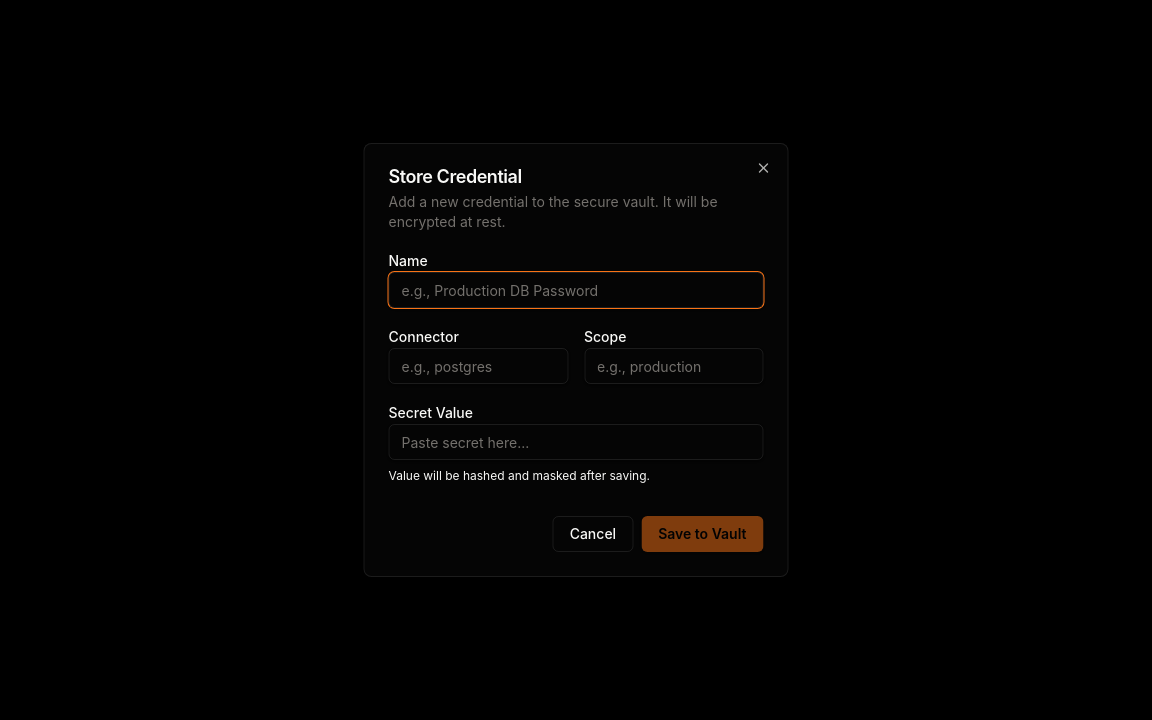
Test: CredentialDialog › keeps the dialog open and shows an error when the API save fails
Type "Production DB" into the field with placeholder "e.g., Production DB Password". click: (576, 290)
box: [388,272,764,308]
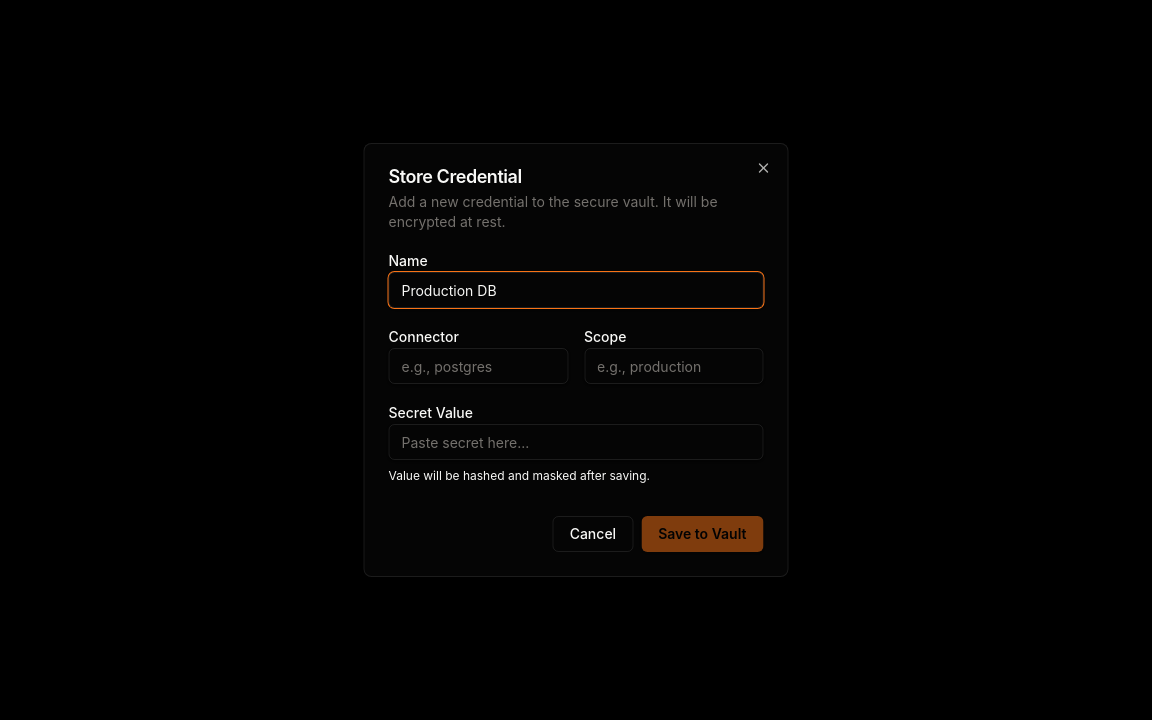
Type "postgres" into the field with placeholder "e.g., postgres". click: (478, 366)
box: [388,348,568,384]
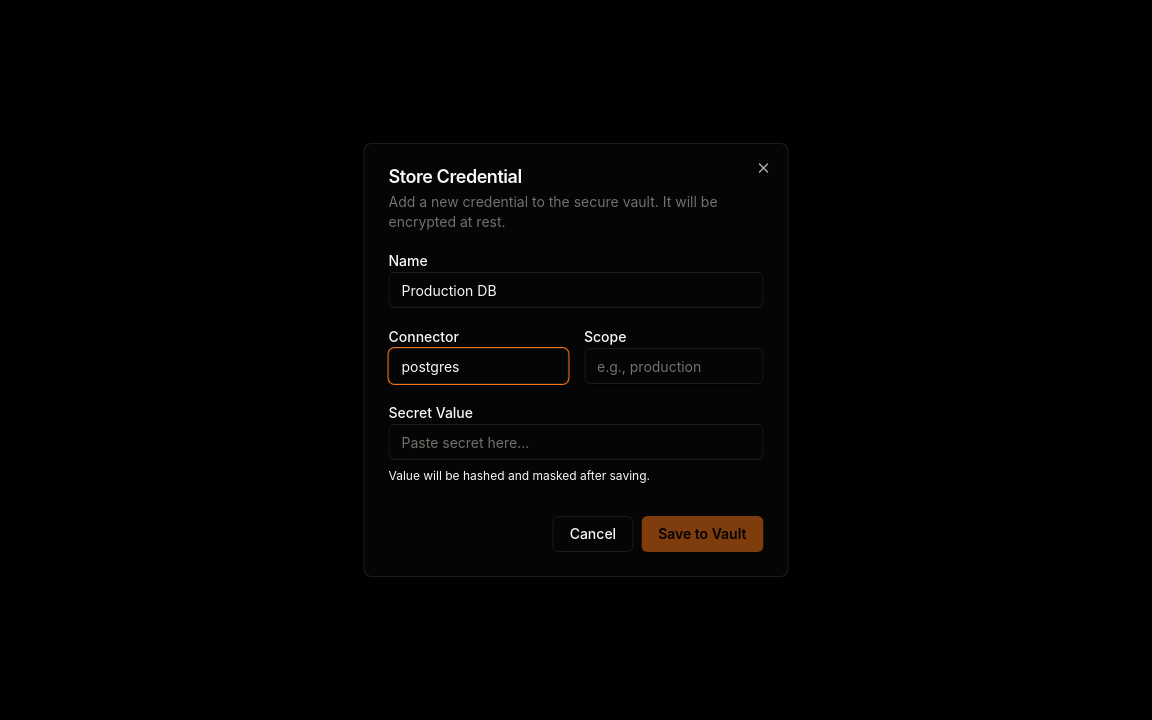
Type "production" into the field with placeholder "e.g., production". click: (674, 366)
box: [584,348,764,384]
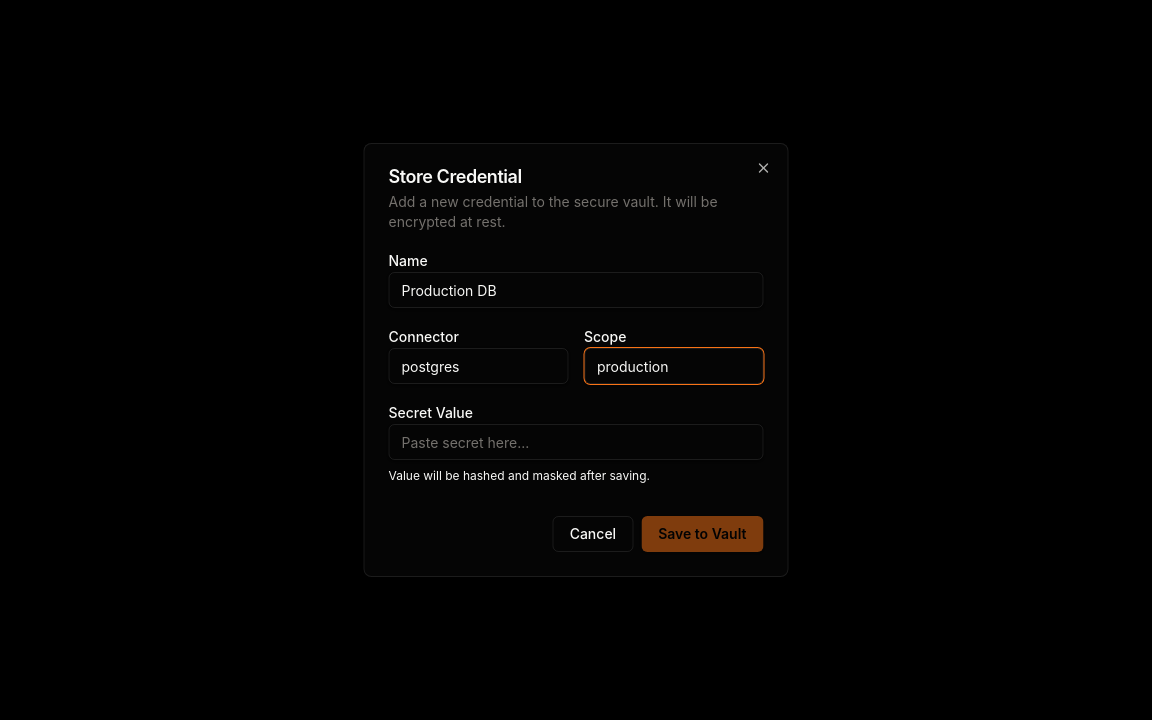
Type "super-secret" into the password field with placeholder "Paste secret here...". click: (576, 442)
box: [388,424,764,460]
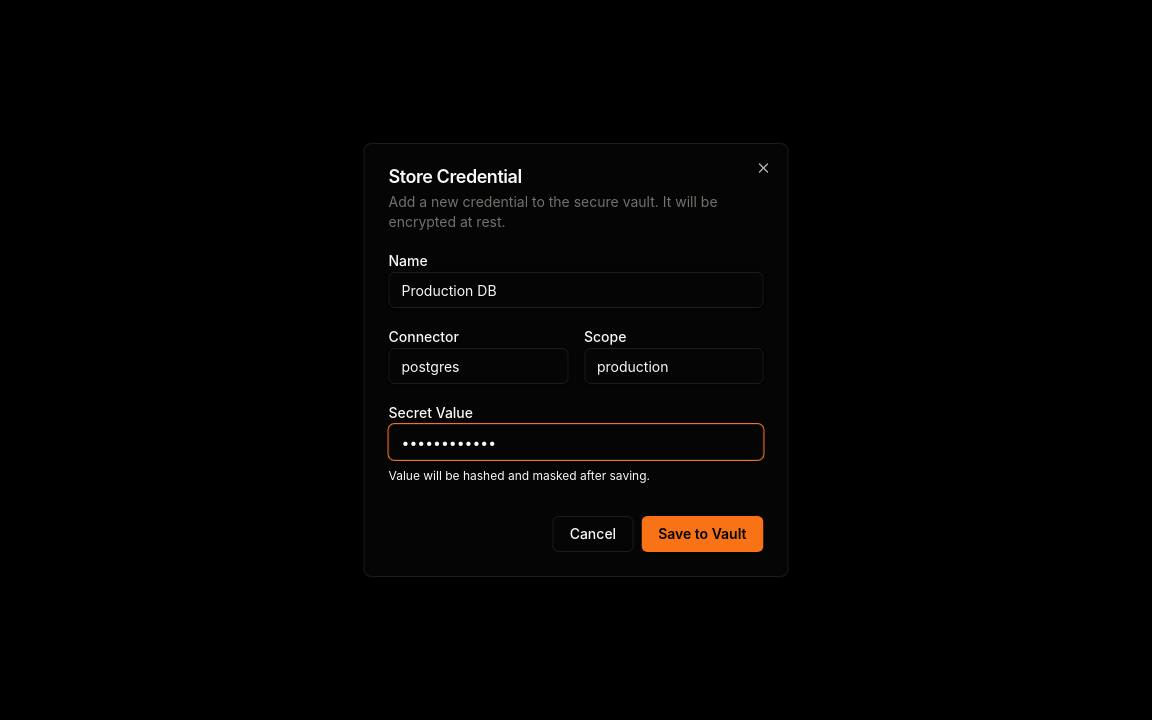
Click the button "Save to Vault". click: (702, 534)
box: [641,516,764,552]
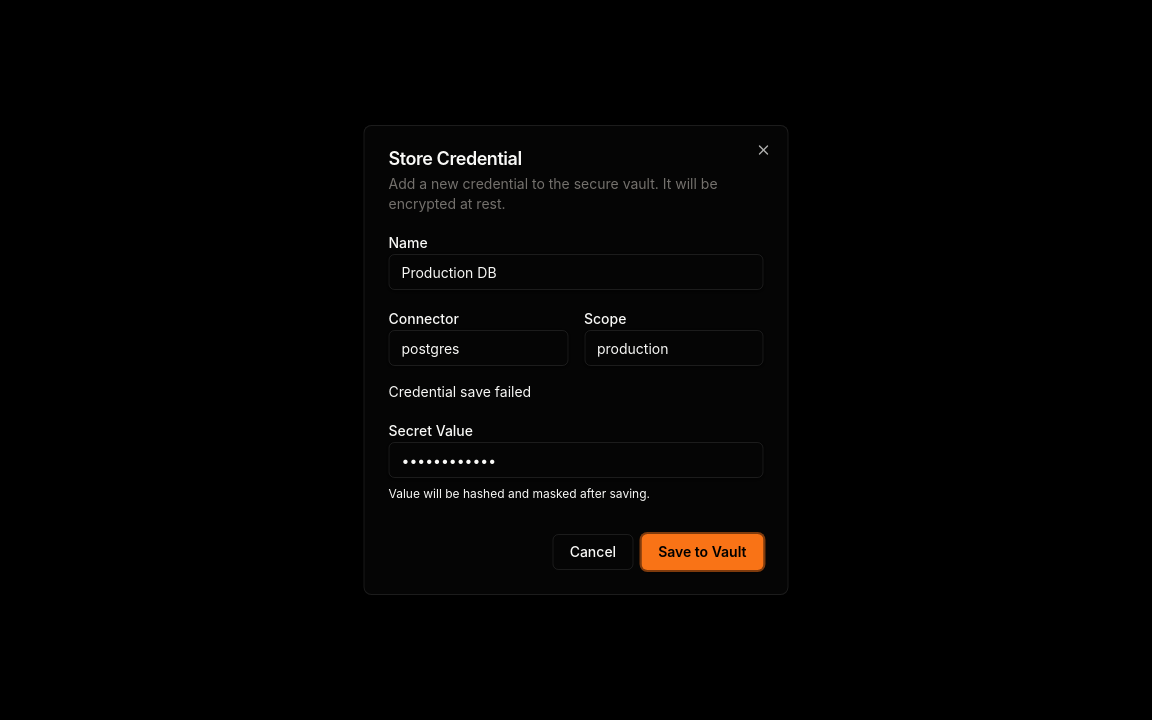
Now the message reads "Credential save failed", box [388,383,531,400]
